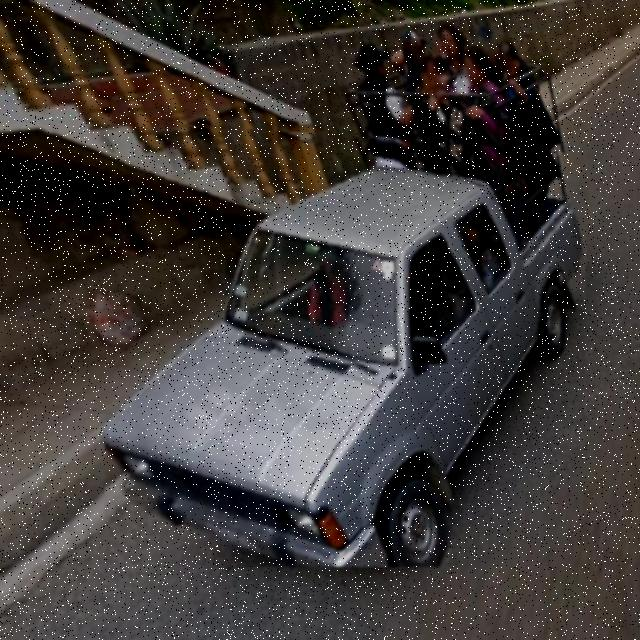car: (106, 119, 589, 568)
